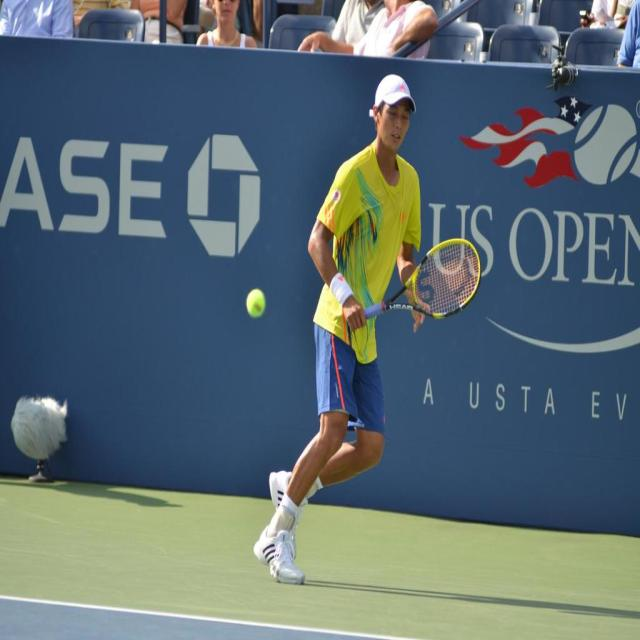Tennis ball: (246, 289, 267, 318)
